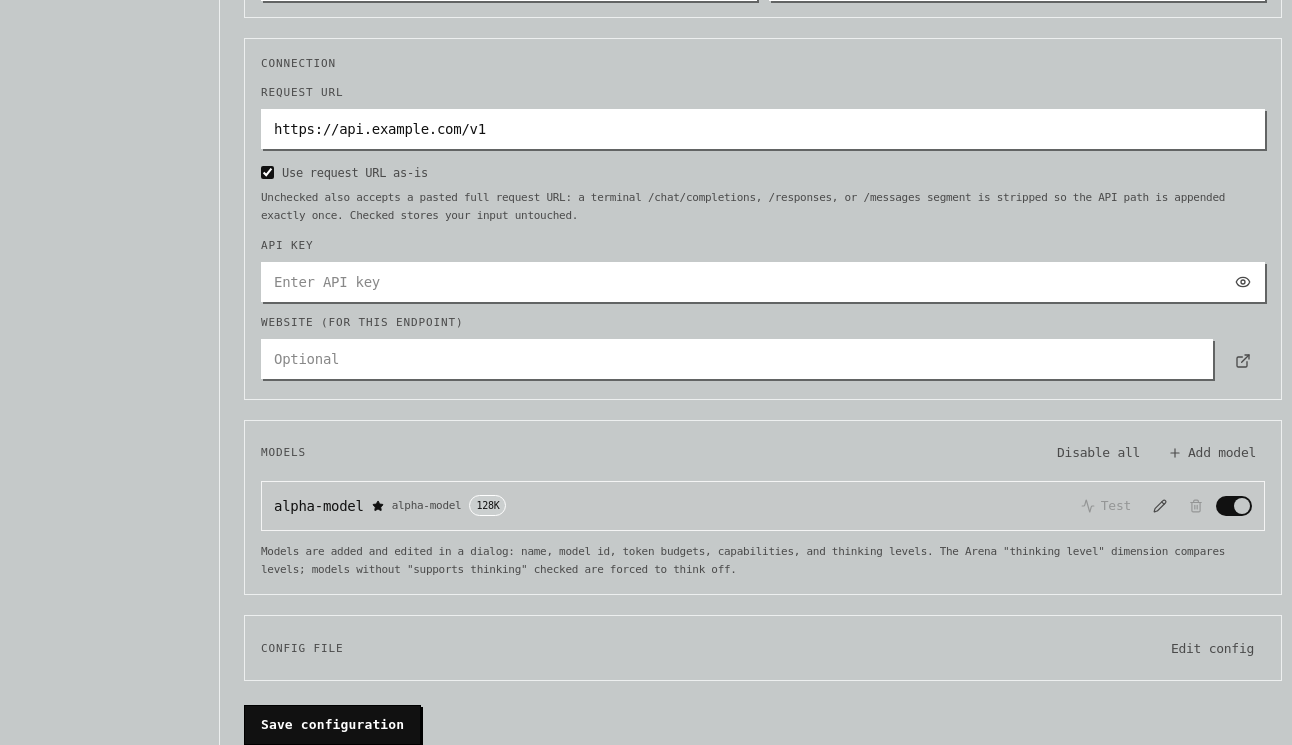
Test: ConnectionsSection › closes the JSON config editor when the selected connection changes
(page scrolled)
Click the button "Edit config" at (1212, 648), box [1160,632,1265,664]
(page scrolled)
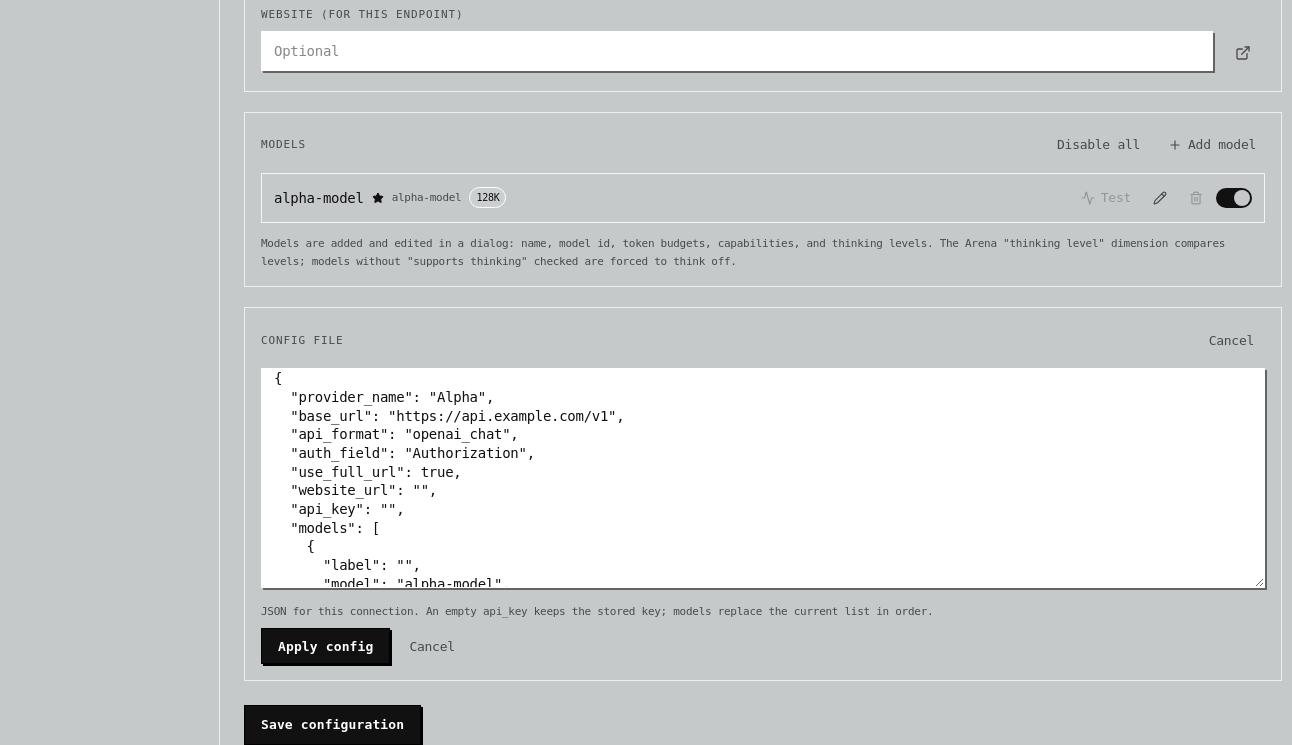
Expected: the text box is shown, [261,368,1265,588]
